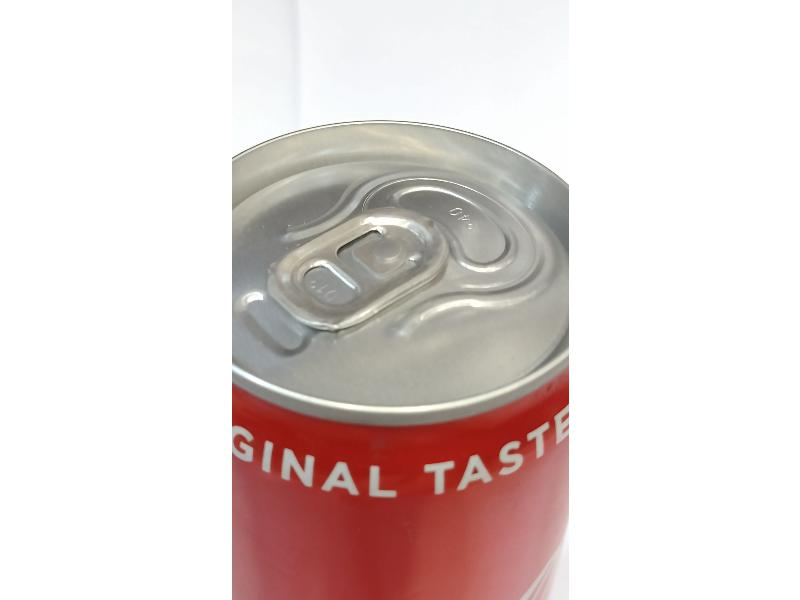can: (229, 74, 570, 598)
